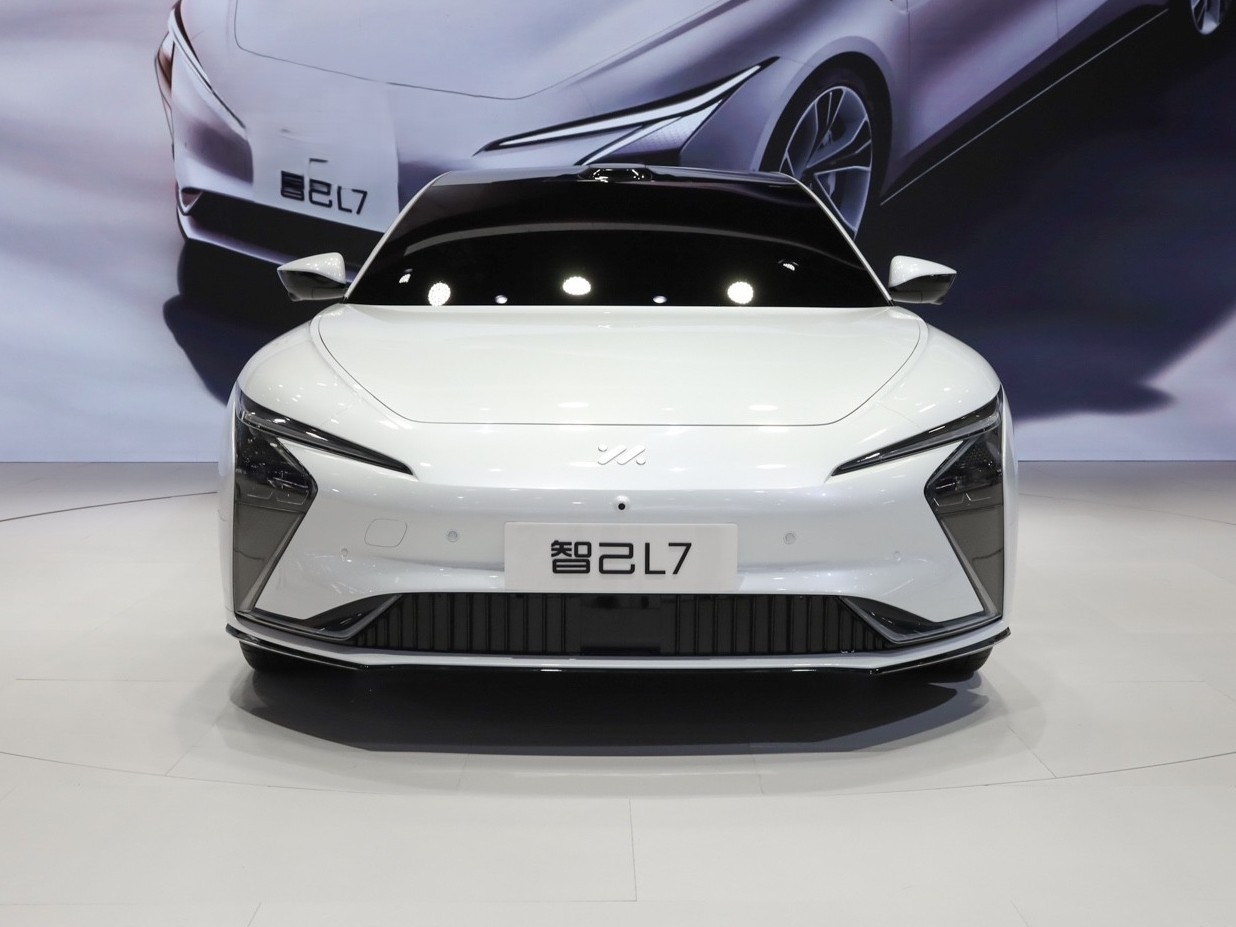IM: (598, 445, 646, 464)
